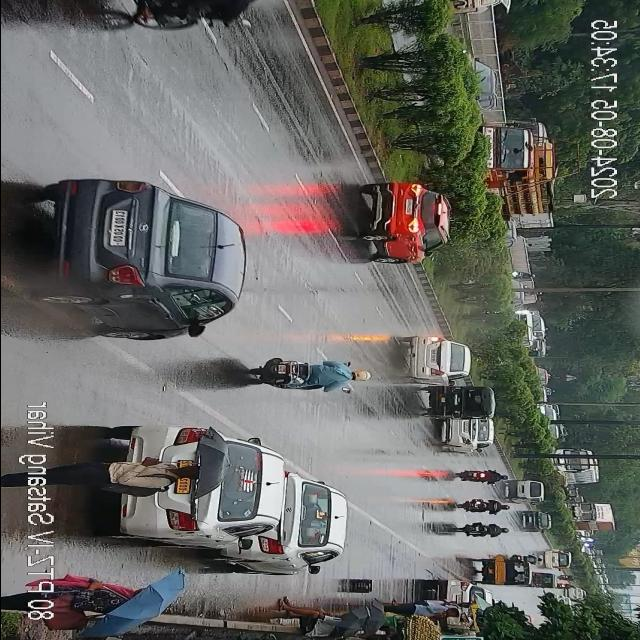2-wheelers: (104, 0, 266, 31), (244, 357, 368, 390), (455, 464, 505, 486), (460, 494, 508, 514), (457, 520, 505, 540), (516, 554, 542, 562)
auto: (424, 384, 496, 421), (479, 551, 529, 585), (528, 572, 558, 586)
bus: (554, 450, 598, 482)
car: (44, 168, 240, 334), (122, 422, 283, 560), (240, 475, 346, 571), (363, 170, 448, 264), (403, 330, 468, 381), (436, 395, 492, 453), (427, 580, 492, 600), (512, 474, 540, 504), (522, 509, 550, 534), (540, 550, 570, 568)
pedestrian: (66, 453, 206, 492), (280, 597, 348, 637), (386, 600, 458, 618)
truck: (480, 114, 554, 228), (568, 502, 614, 530)
